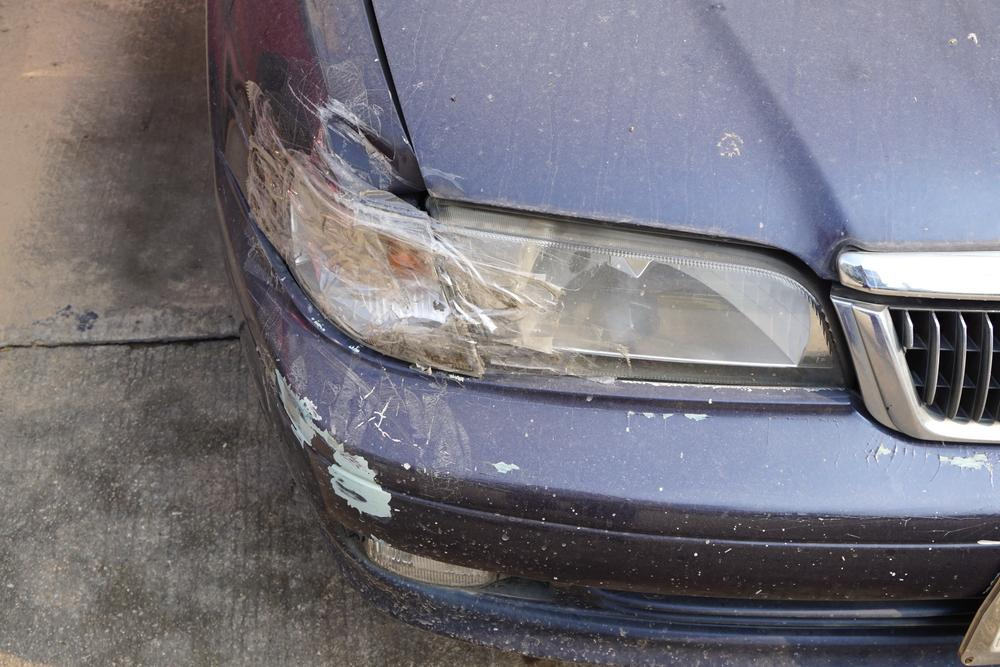crack: (332, 115, 396, 160)
scratch: (277, 360, 407, 520)
